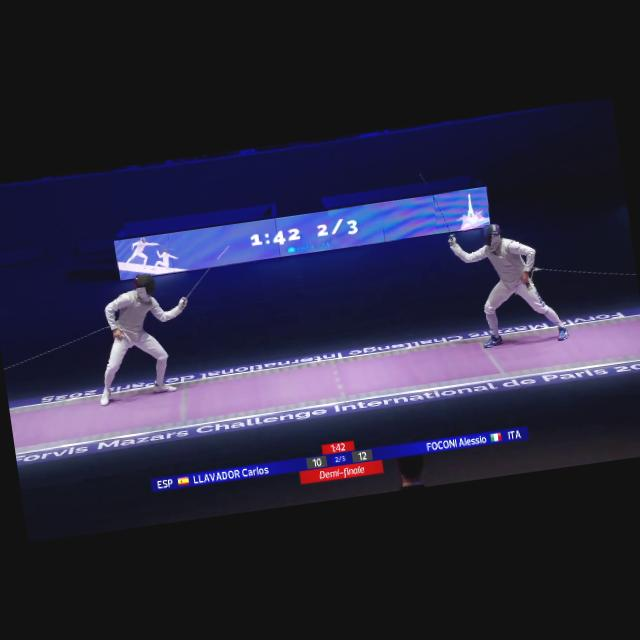blade: (172, 242, 242, 310), (419, 172, 458, 245)
